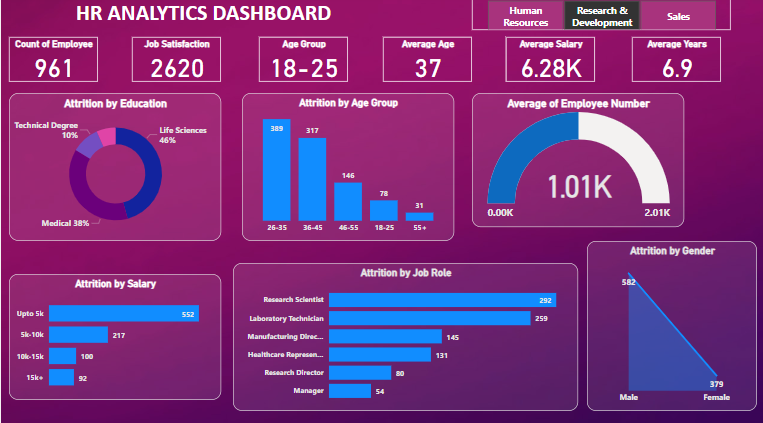

Layout of this report page (visuals, bound fields, positions):
{"tool":"powerbi","page":{"name":"Page 1","canvas":[1280,720],"ordinal":0},"visuals":[{"type":"card","title":"Count of Employee","fields":{"Values":["CountNonNull(HR_Analytics.EmpID)"]},"box":[13.4,68.8,149.3,75.5],"z":0},{"type":"card","title":"Job Satisfaction","fields":{"Values":["Sum(HR_Analytics.JobSatisfaction)"]},"box":[219.8,68.8,149.3,75.5],"z":1000},{"type":"card","title":"Age Group","fields":{"Values":["Min(HR_Analytics.AgeGroup)"]},"box":[432.8,68.8,149.3,75.5],"z":2000},{"type":"card","title":"Average Age","fields":{"Values":["Avg(HR_Analytics.Age)"]},"box":[640.8,68.8,149.3,75.5],"z":3000},{"type":"card","title":"Average Salary","fields":{"Values":["Avg(HR_Analytics.MonthlyIncome)"]},"box":[847.2,68.8,149.3,75.5],"z":4000},{"type":"card","title":"Average Years","fields":{"Values":["Avg(HR_Analytics.YearsAtCompany)"]},"box":[1058.6,68.8,149.3,75.5],"z":5000},{"type":"donutChart","title":"Attrition by Education","fields":{"Category":["HR_Analytics.EducationField"],"Y":["CountNonNull(HR_Analytics.AttritionCount)"]},"box":[13.4,162.7,355.6,248.3],"z":6000},{"type":"clusteredBarChart","title":"Attrition by Salary","fields":{"Category":["HR_Analytics.SalarySlab"],"Y":["CountNonNull(HR_Analytics.AttritionCount)"]},"box":[13.4,466.4,355.6,211.4],"z":7000},{"type":"gauge","title":"Average of Employee Number","fields":{"Y":["Avg(HR_Analytics.EmployeeNumber)"]},"box":[790.1,162.7,355.6,224.8],"z":8000},{"type":"columnChart","title":"Attrition by Age Group","fields":{"Category":["HR_Analytics.AgeGroup"],"Y":["CountNonNull(HR_Analytics.AttritionCount)"]},"box":[404.3,162.7,355.6,248.3],"z":9000},{"type":"clusteredBarChart","title":"Attrition by Job Role","fields":{"Category":["HR_Analytics.JobRole"],"Y":["CountNonNull(HR_Analytics.AttritionCount)"]},"box":[389.2,447.9,578.8,248.3],"z":10000},{"type":"areaChart","title":"Attrition by Gender","fields":{"Category":["HR_Analytics.Gender"],"Y":["CountNonNull(HR_Analytics.AttritionCount)"]},"box":[983.1,411,285.2,285.2],"z":11000},{"type":"slicer","fields":{"Values":["HR_Analytics.Department"]},"box":[790.1,0,434.5,57],"z":12000},{"type":"textbox","box":[120.8,0,461.3,62.1],"z":13000}]}

Visuals, with their boxes in screenshot pixels (x1, y1, x2, y2), scaled from the page's 1280x720 canvas onto the 763x423 screenshot:
"Count of Employee" card: {"left": 8, "top": 40, "right": 97, "bottom": 85}
"Job Satisfaction" card: {"left": 131, "top": 40, "right": 220, "bottom": 85}
"Age Group" card: {"left": 258, "top": 40, "right": 347, "bottom": 85}
"Average Age" card: {"left": 382, "top": 40, "right": 471, "bottom": 85}
"Average Salary" card: {"left": 505, "top": 40, "right": 594, "bottom": 85}
"Average Years" card: {"left": 631, "top": 40, "right": 720, "bottom": 85}
"Attrition by Education" donutChart: {"left": 8, "top": 96, "right": 220, "bottom": 241}
"Attrition by Salary" clusteredBarChart: {"left": 8, "top": 274, "right": 220, "bottom": 398}
"Average of Employee Number" gauge: {"left": 471, "top": 96, "right": 683, "bottom": 228}
"Attrition by Age Group" columnChart: {"left": 241, "top": 96, "right": 453, "bottom": 241}
"Attrition by Job Role" clusteredBarChart: {"left": 232, "top": 263, "right": 577, "bottom": 409}
"Attrition by Gender" areaChart: {"left": 586, "top": 241, "right": 756, "bottom": 409}
slicer - HR_Analytics.Department: {"left": 471, "top": 0, "right": 730, "bottom": 33}
textbox: {"left": 72, "top": 0, "right": 347, "bottom": 36}
